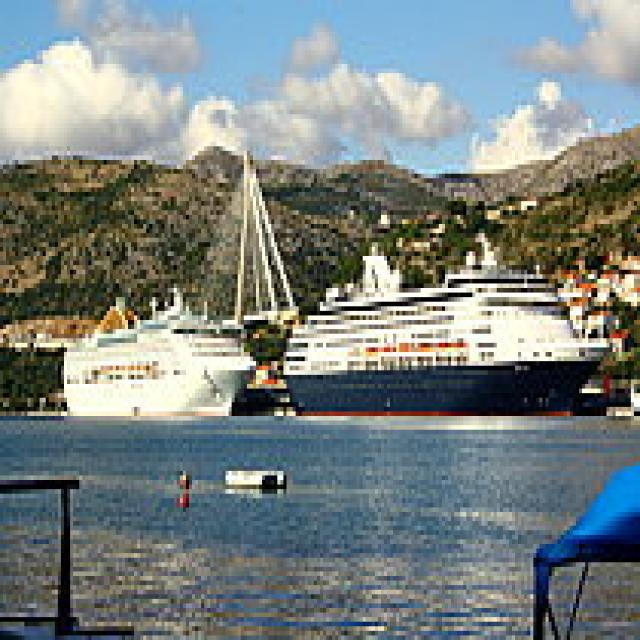Ship: (281, 235, 620, 431), (56, 285, 267, 427)
